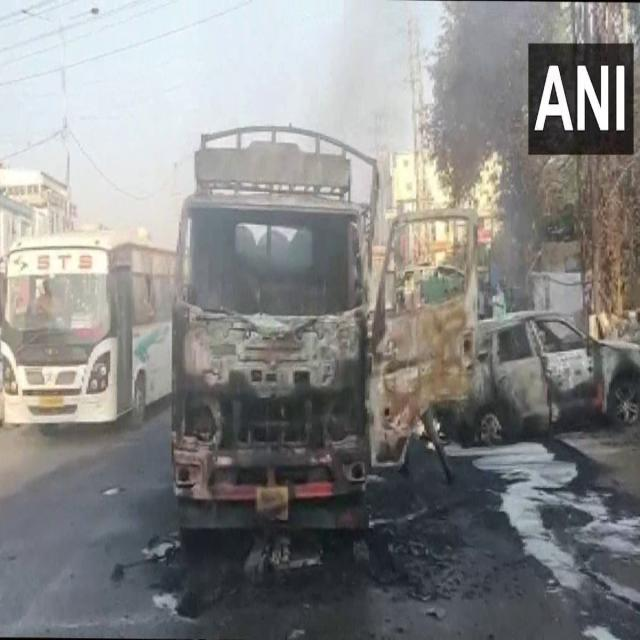accident: (171, 127, 483, 545), (478, 310, 640, 442)
bus: (1, 235, 175, 424)
